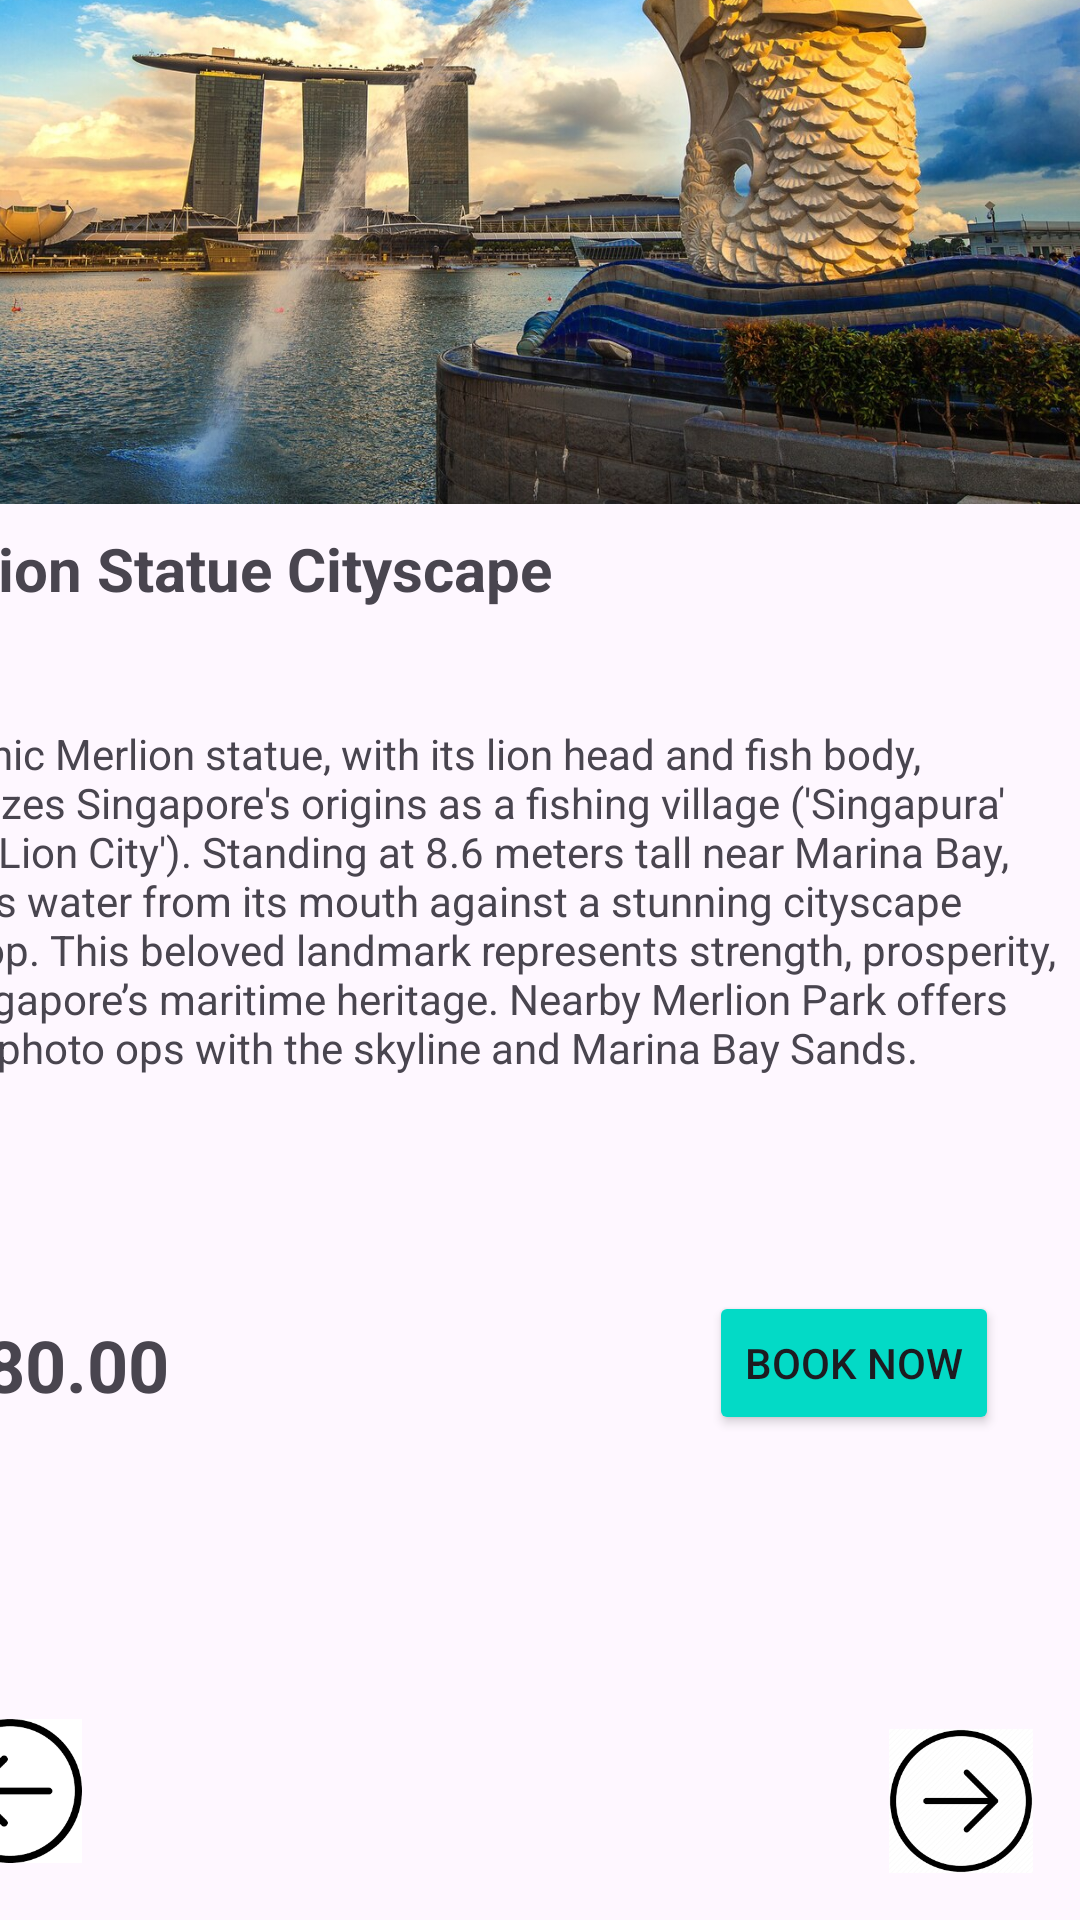

Point at icon controls on the screen. Image size 1080×1920, points as (x,y).
Next button: (961,1801)
